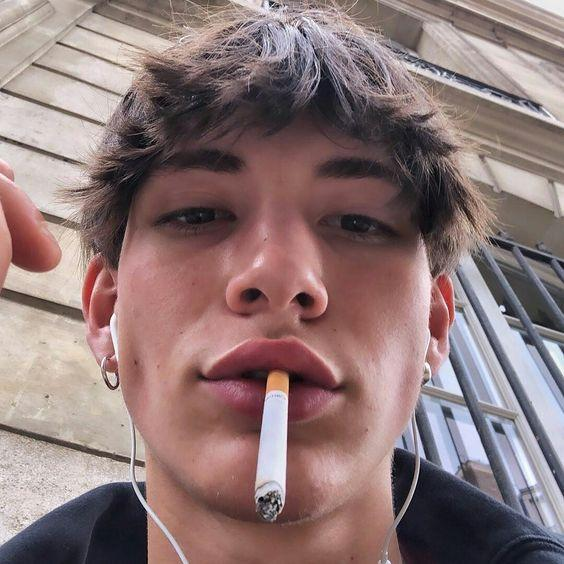cigarette: (254, 370, 289, 522)
